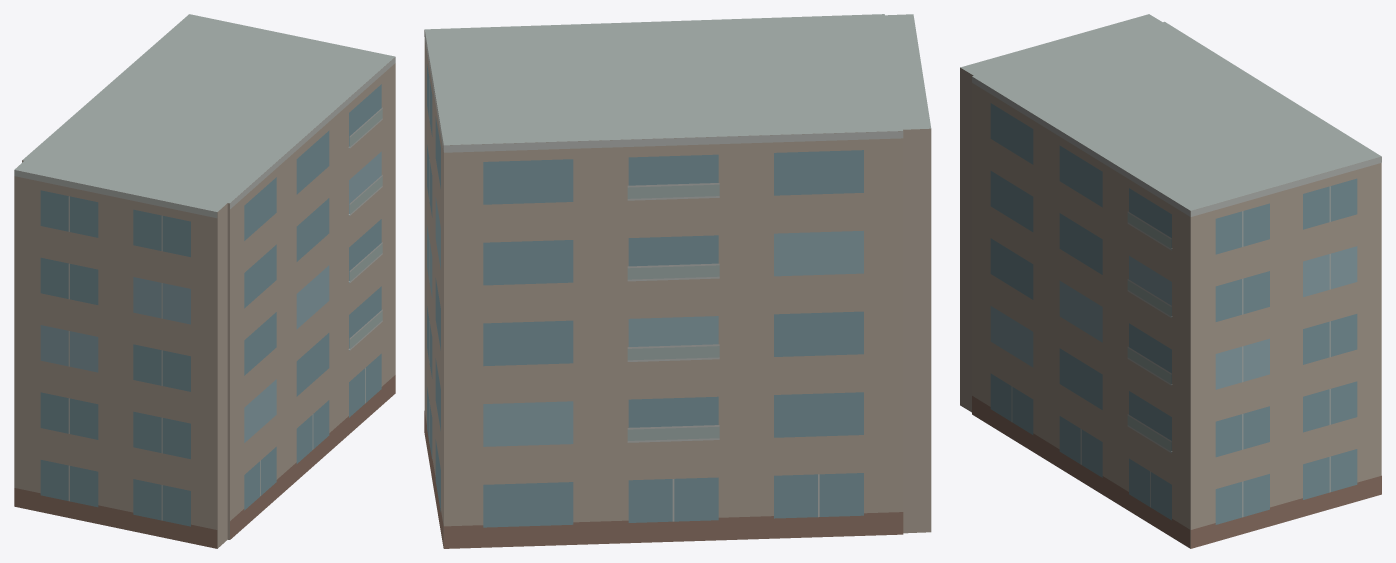
Rendered from survey-upis-32949430.glb.
The picture shows the model from 3 angles, left to right: view 1: azimuth 30°, elevation 25°; view 2: azimuth 150°, elevation 25°; view 3: azimuth 270°, elevation 25°; orthographic projection. The views are drawn at different scales.
Visible parts, largest first — view 1: survey-upis-32949430.tmp; view 2: survey-upis-32949430.tmp; view 3: survey-upis-32949430.tmp.
Part boxes in pixels (x1,y1,x2,y2): survey-upis-32949430.tmp: (14,14,395,548); survey-upis-32949430.tmp: (424,14,931,548); survey-upis-32949430.tmp: (960,14,1381,548).
Bounding box in the file's own units: 16.5 × 13.2 × 14.94.
